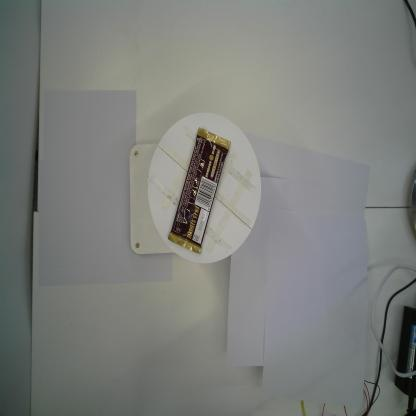Chocolate: (166, 126, 233, 256)
